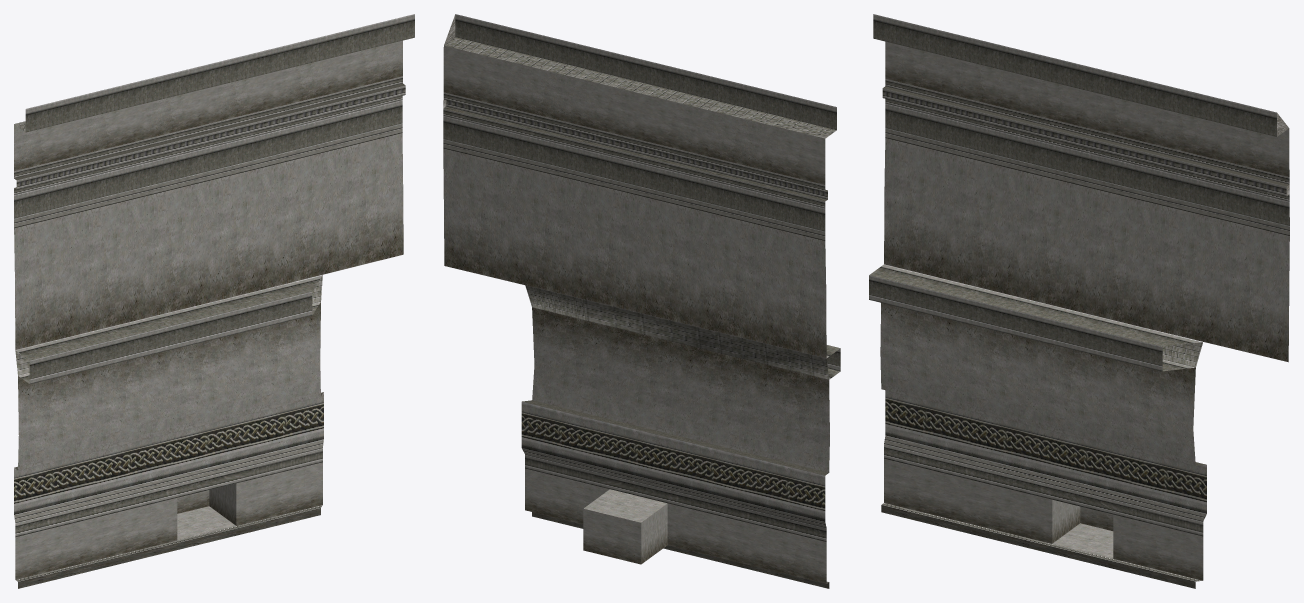
Rendered from DWARF_PALACE_WATER_ROOM_WALL01A01.fbx.
3 renders of one model, left to right at view 1: azimuth 30°, elevation 25°; view 2: azimuth 150°, elevation 25°; view 3: azimuth 330°, elevation 25°, orthographic. The views are drawn at different scales.
Visible parts, largest first — view 1: DWARF_PALACE_WATER_ROOM_WALL01A01; view 2: DWARF_PALACE_WATER_ROOM_WALL01A01; view 3: DWARF_PALACE_WATER_ROOM_WALL01A01.
Part boxes in pixels (x1,y1,x2,y2): DWARF_PALACE_WATER_ROOM_WALL01A01: [14, 14, 414, 588]; DWARF_PALACE_WATER_ROOM_WALL01A01: [443, 14, 840, 588]; DWARF_PALACE_WATER_ROOM_WALL01A01: [869, 14, 1289, 588].
Bounding box in the file's own units: 171850 × 205000 × 31748.
10 materials, 10 textured.
